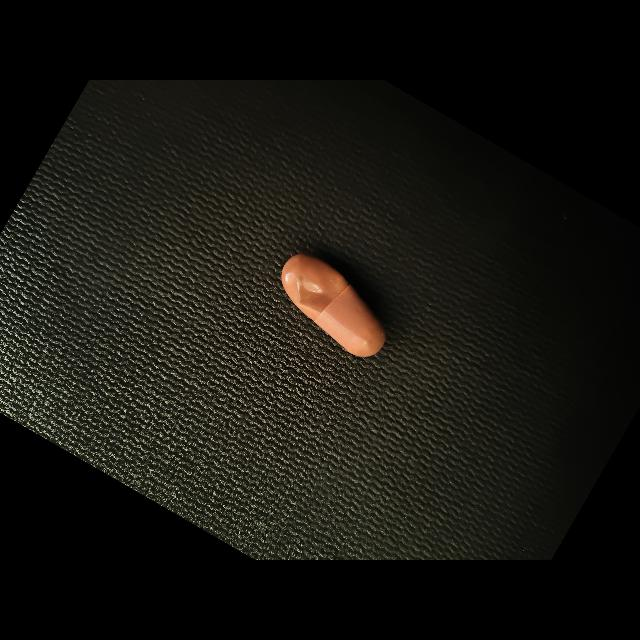Defective Capsule: (299, 274, 346, 313)
